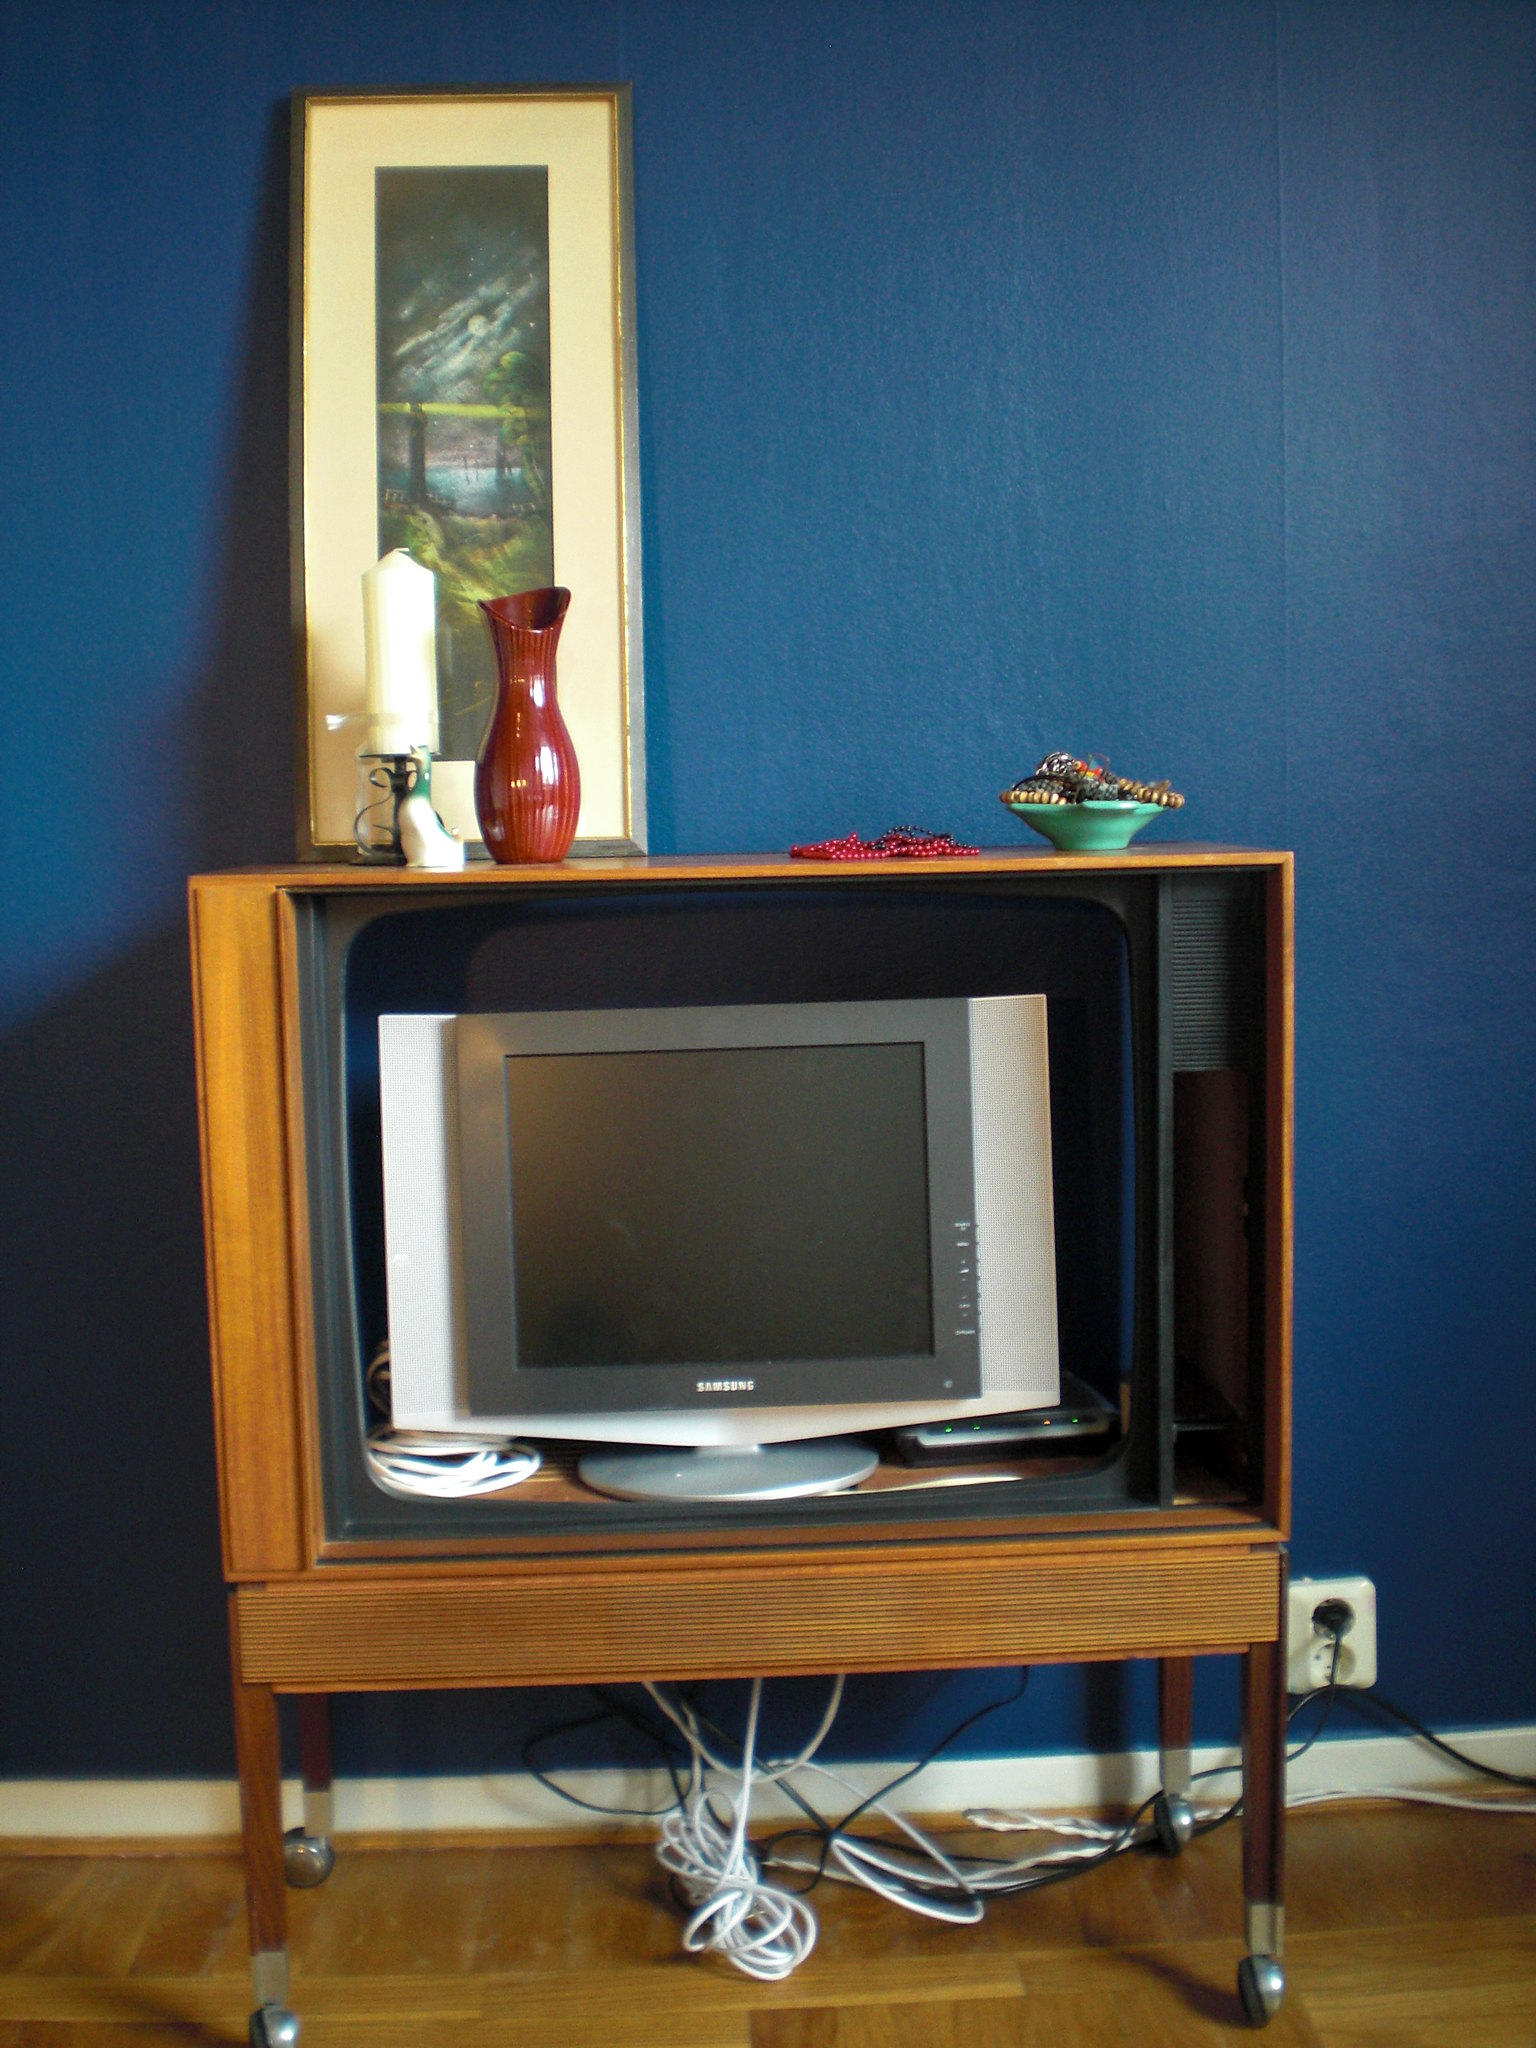tv monitor: (369, 1009, 1075, 1438)
